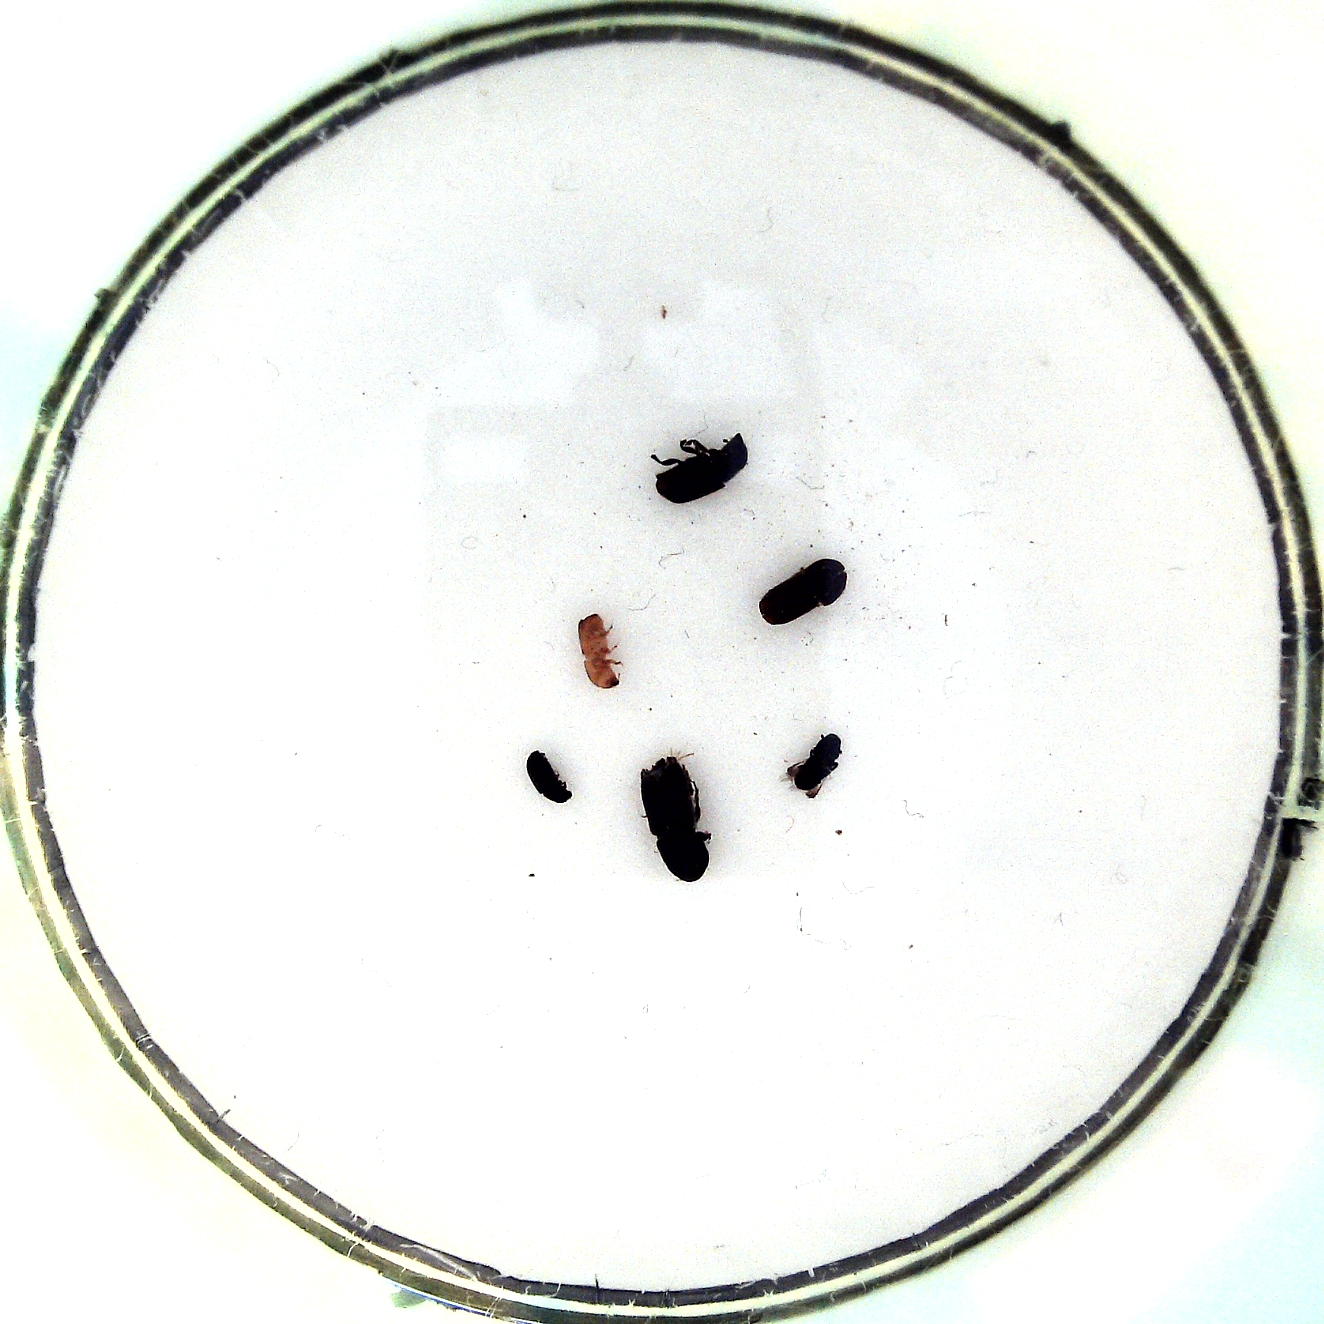Boerner: (633, 751, 721, 886)
Linnaeus: (751, 553, 851, 627)
acuminatus: (571, 611, 628, 696)
armandi: (645, 430, 753, 504)
coleoptera: (776, 727, 845, 799), (523, 744, 577, 807)
